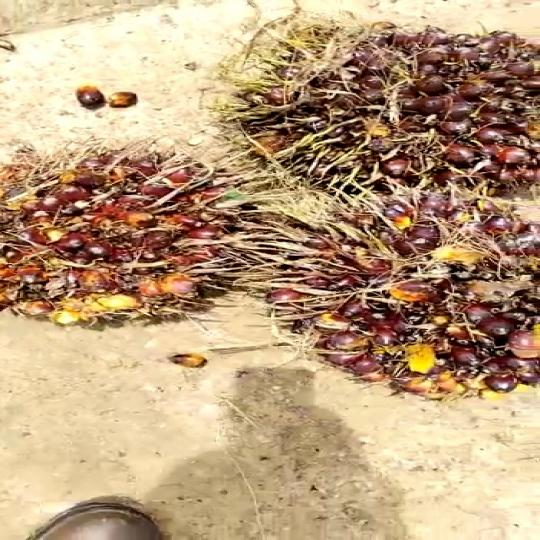masak: (166, 19, 540, 202), (245, 187, 540, 415), (0, 150, 290, 337)
